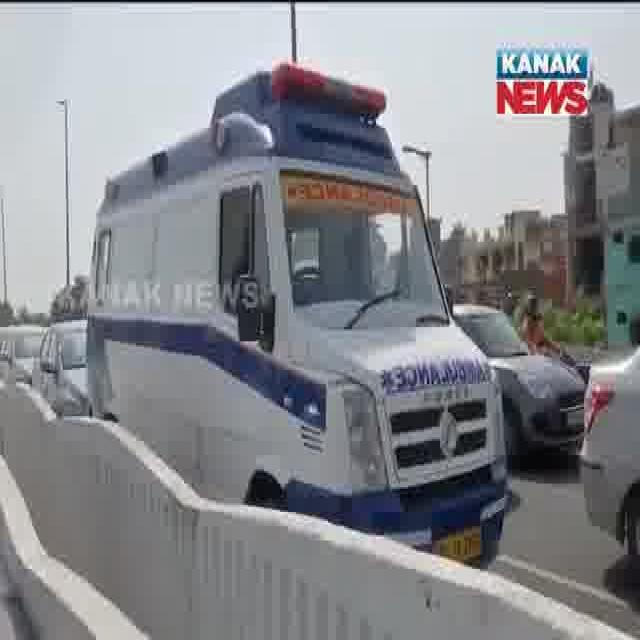ambulance: (85, 49, 500, 589)
